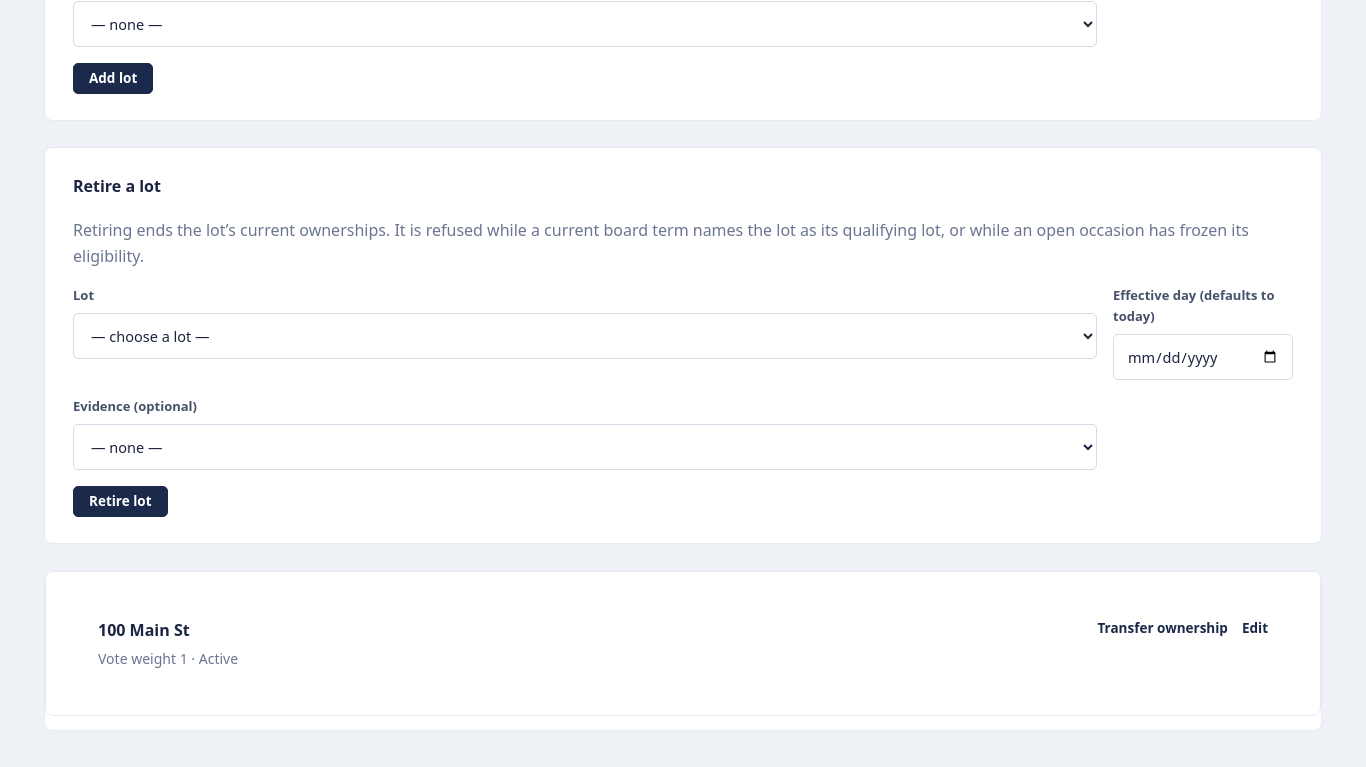
Test: RosterAdminPanel lot records › refuses a blank weight on edit instead of guessing one
(page scrolled)
Click the button with aria-label "Edit lot: 100 Main St".
click(1255, 629)  # box [1242,618,1268,640]
(page scrolled)
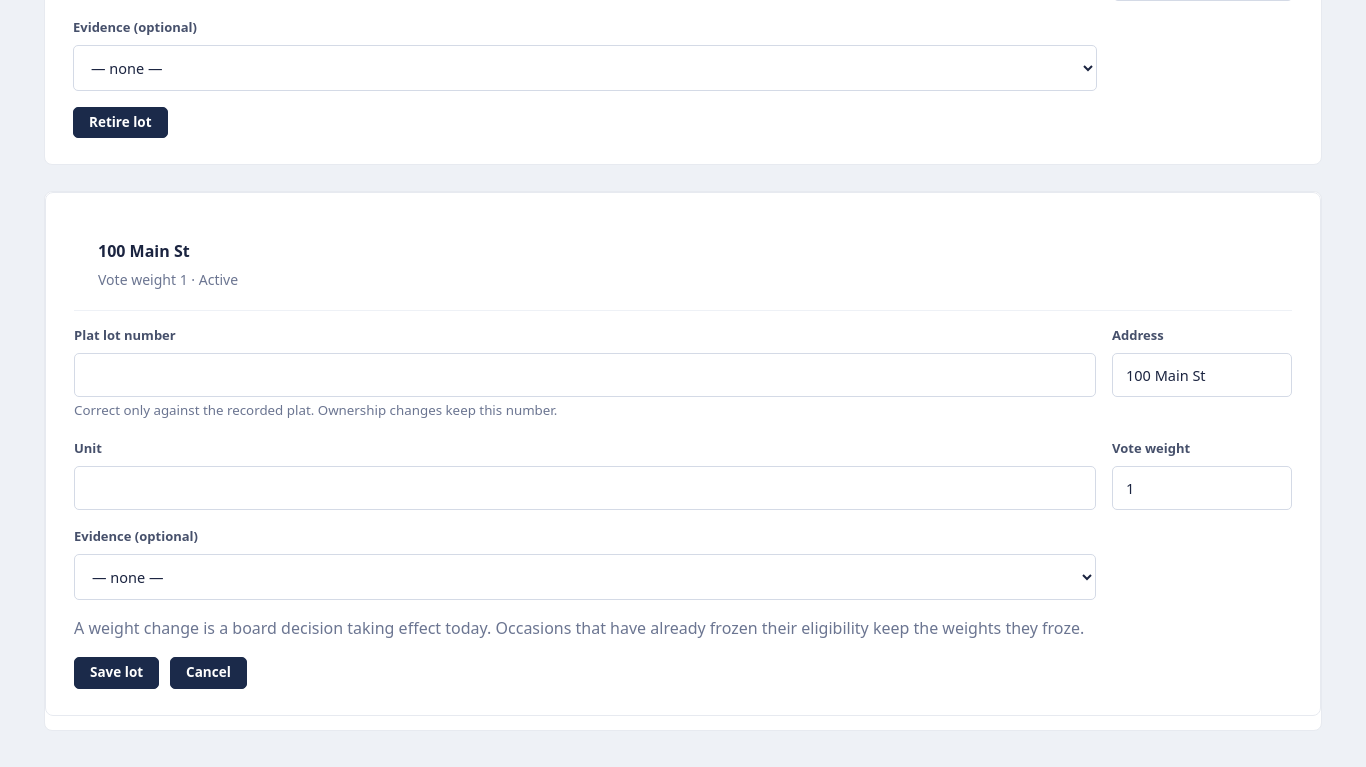
Clear the number field labelled "Vote weight" at (1202, 488), box [1112,466,1292,510]
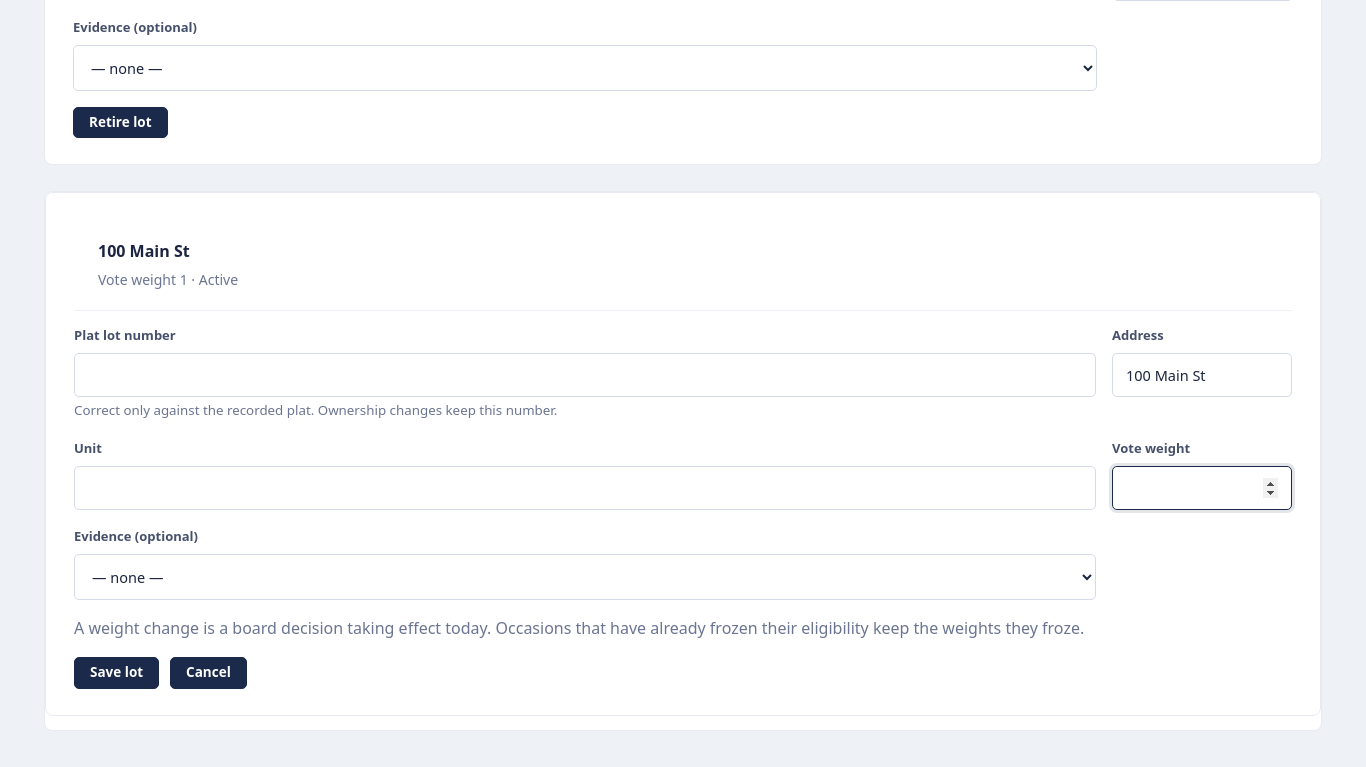
Click the button "Save lot".
click(117, 673)  # box [74,657,159,689]
(page scrolled)
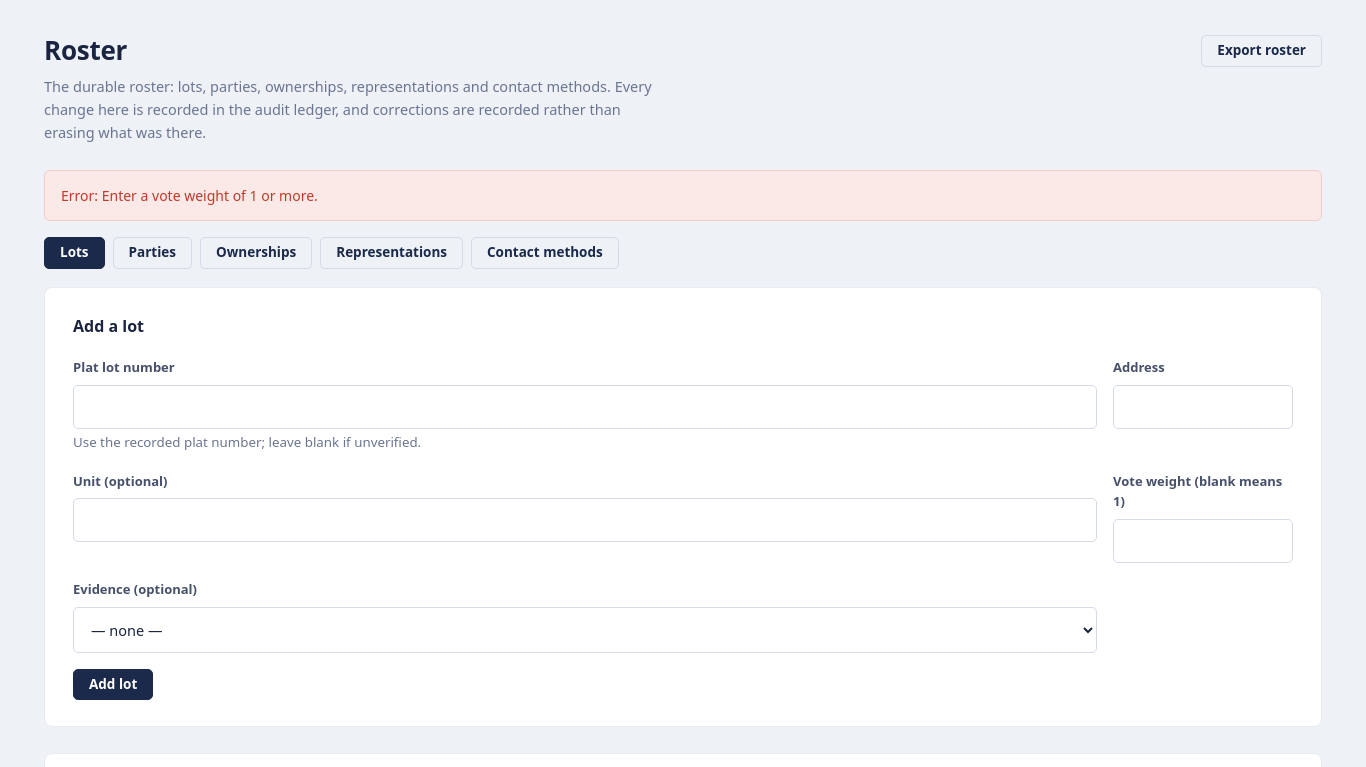
Now the text "Error: Enter a vote weight of 1 or more." is shown, box [44,170,1322,221]
